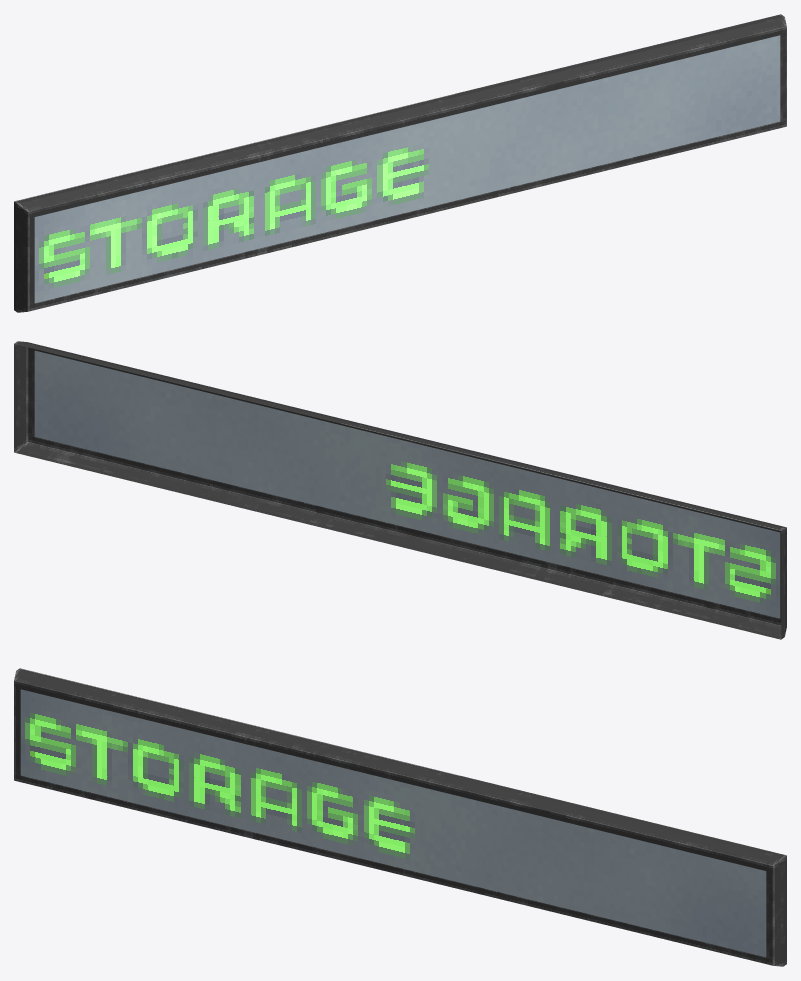
File: large_storage.glb
3 views of the same model, one above another, from view 1: azimuth 30°, elevation 25°; view 2: azimuth 150°, elevation 25°; view 3: azimuth 330°, elevation 25° (orthographic).
Visible parts, largest first — view 1: Sign-Large_Storage; view 2: Sign-Large_Storage; view 3: Sign-Large_Storage.
Boxes of the visible parts, x1,y1,x2,y2 form: Sign-Large_Storage: (14,14,786,312); Sign-Large_Storage: (14,341,786,639); Sign-Large_Storage: (14,668,786,966).
Size of the model in its own units: 18.61 by 2.52 by 0.4128.
1 material, 1 textured.
